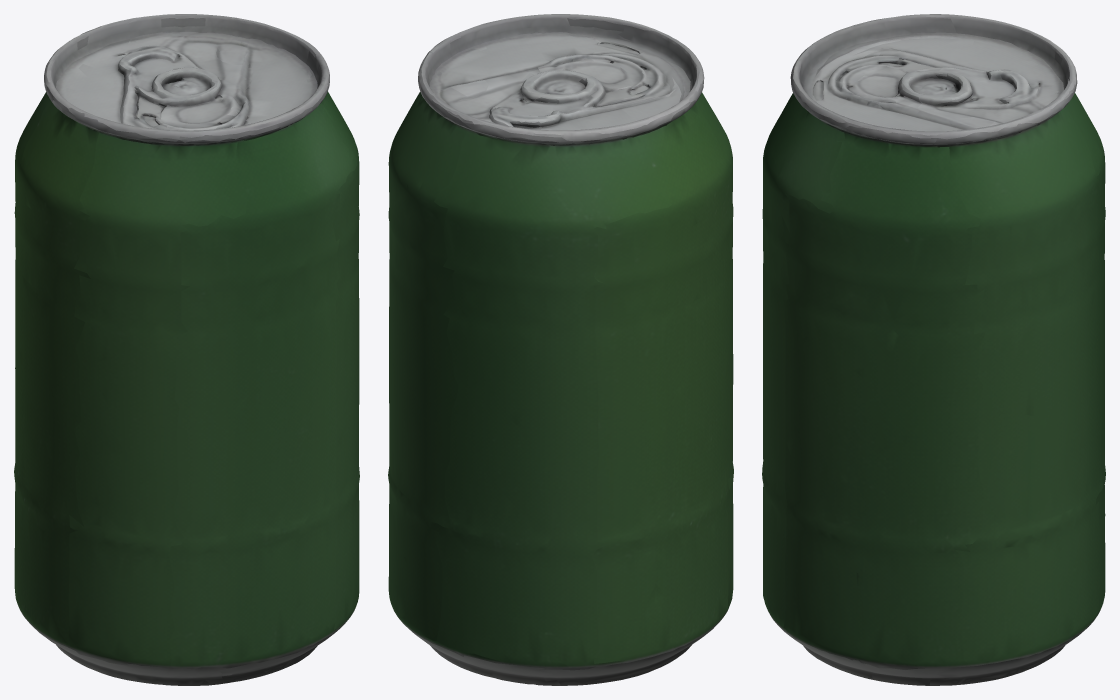
3 views of the same model, side by side, from view 1: azimuth 30°, elevation 25°; view 2: azimuth 150°, elevation 25°; view 3: azimuth 270°, elevation 25° (orthographic).
Parts seen in each view (by area): view 1: world; view 2: world; view 3: world.
Boxes of the visible parts, x1,y1,x2,y2 form: world: (14, 14, 359, 685); world: (388, 14, 733, 685); world: (762, 14, 1105, 685).
Size of the model in its own units: 0.0683 by 0.122 by 0.0684.
1 material, 1 textured.
